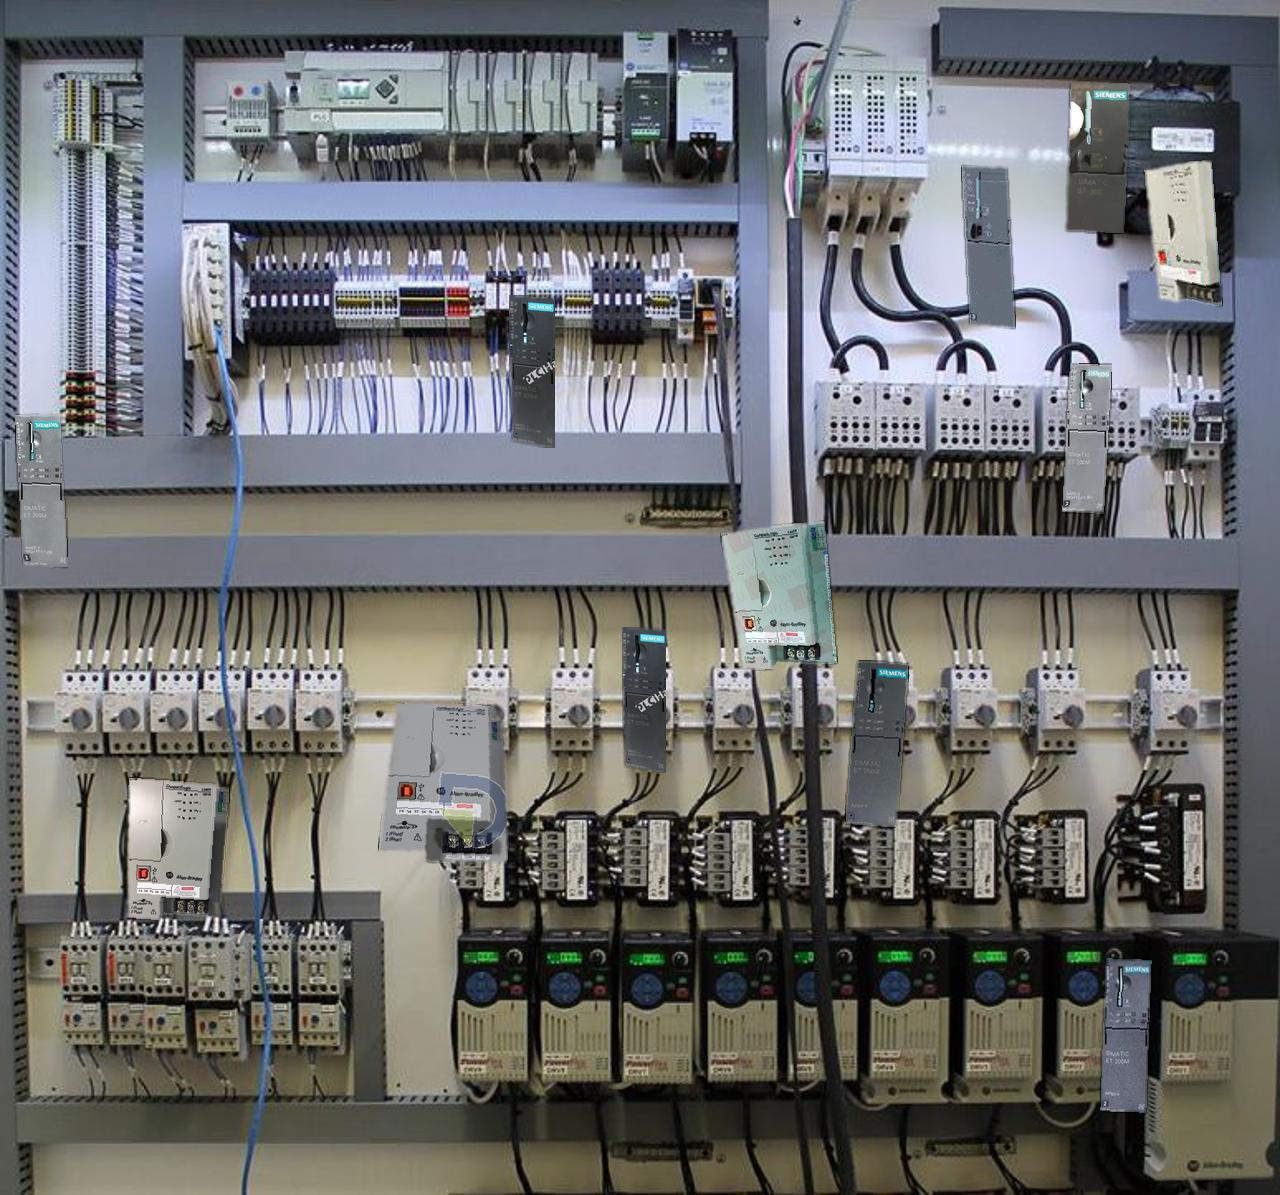AllenBradley: (380, 702, 508, 863), (721, 522, 836, 669), (127, 778, 228, 919), (1144, 161, 1220, 305)
Siemens: (1066, 82, 1130, 232), (962, 166, 1014, 327)
